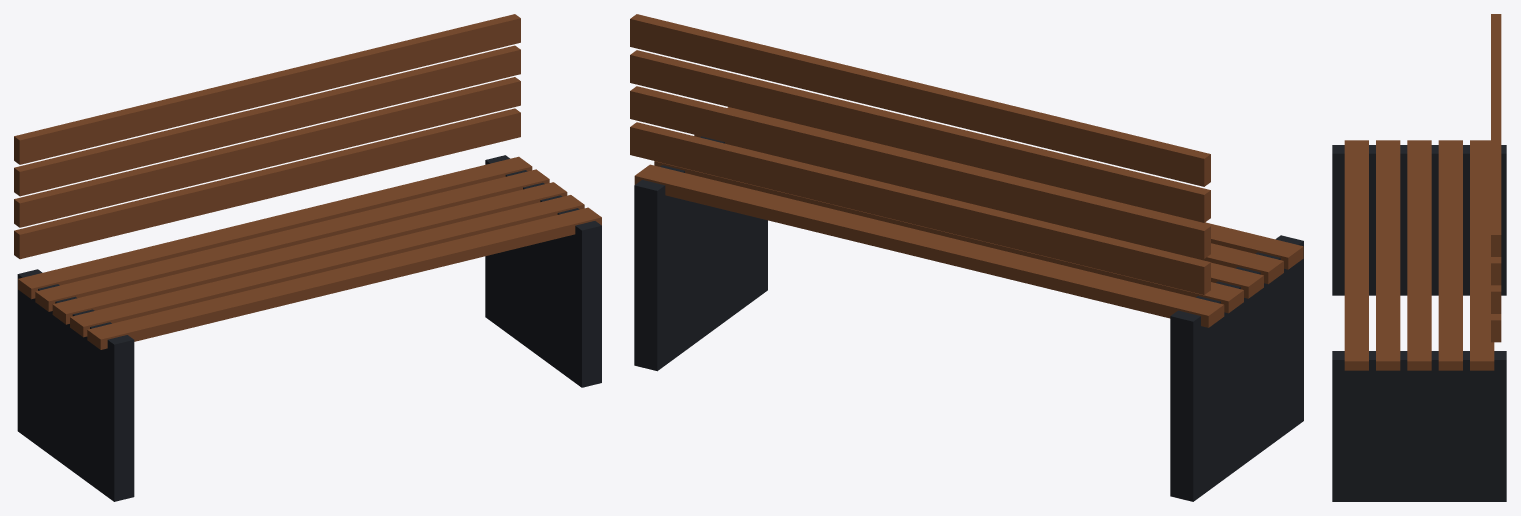
Rendered from bench-chair.glb.
3 views of the same model, side by side, from view 1: azimuth 30°, elevation 25°; view 2: azimuth 150°, elevation 25°; view 3: azimuth 270°, elevation 25° (orthographic). The views are drawn at different scales.
Size of the model in its own units: 1.5 by 0.855 by 0.5.
